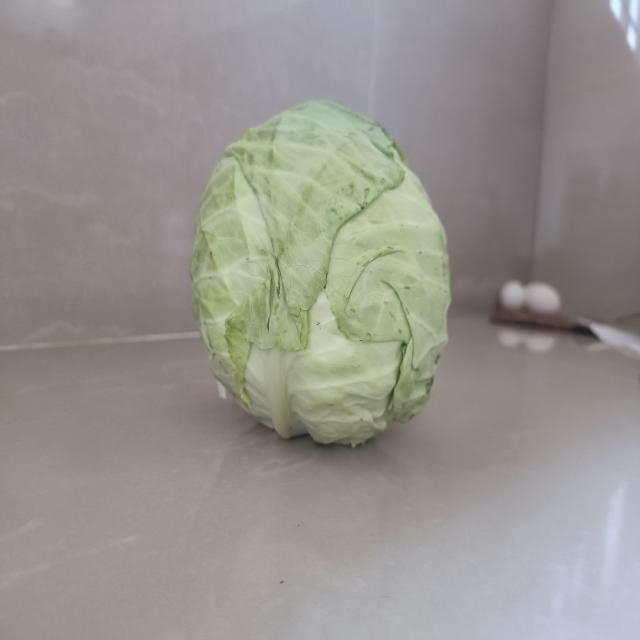cabbage: (183, 94, 455, 451)
